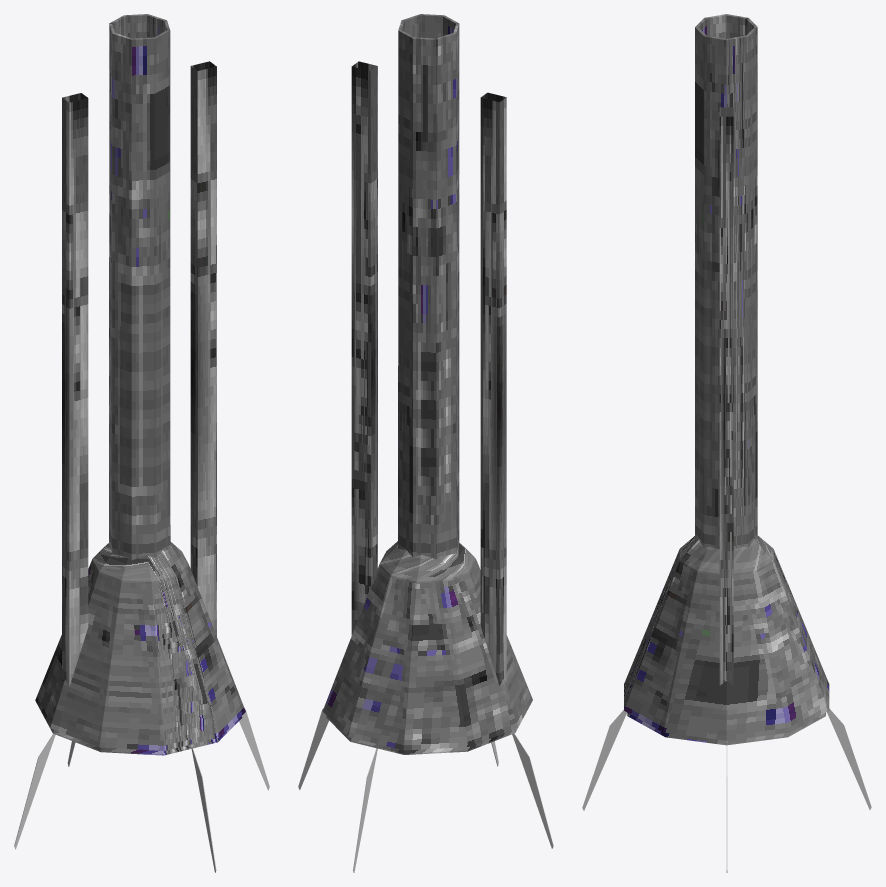
Rendered from sup1.obj.
3 renders of one model, left to right at view 1: azimuth 30°, elevation 25°; view 2: azimuth 150°, elevation 25°; view 3: azimuth 270°, elevation 25°, orthographic.
Bounding box in the file's own units: 9.41 × 28.01 × 9.37.
Materials: 3 (3 with a texture image).
